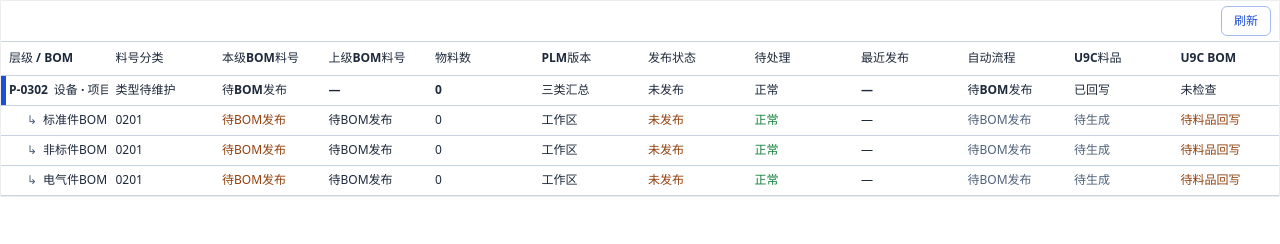
it: BomHierarchyOverview › refreshes cached BOM data and U9 state without writes and blocks repeat clicks
Step 1. Click the button with aria-label "刷新多级BOM" → (1246, 21), box [1221, 6, 1271, 36]
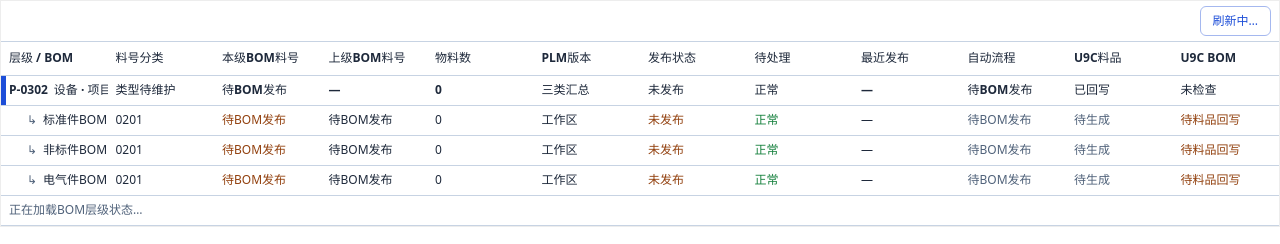
Check: the button with aria-label "刷新多级BOM" is disabled
Check: the button with aria-label "刷新多级BOM" reads "刷新中…"
Step 2. Click the button with aria-label "刷新多级BOM" → (1235, 21), box [1200, 6, 1271, 36]
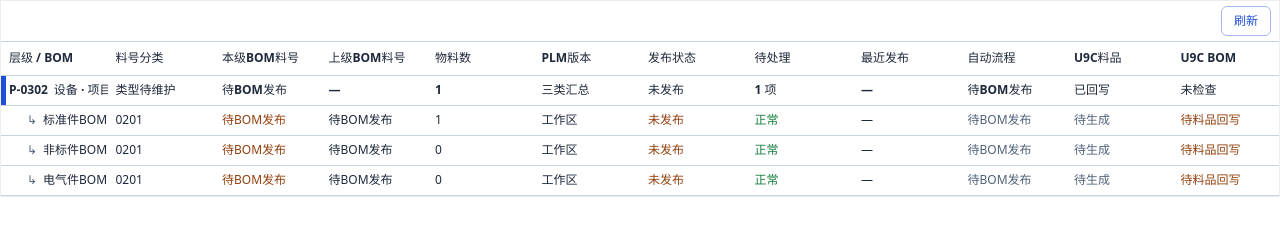
Check: the button with aria-label "刷新多级BOM" is enabled
Check: the 2nd cell "1" is shown, box [427, 105, 534, 135]
Step 3. Click the button with aria-label "刷新多级BOM" → (1246, 21), box [1221, 6, 1271, 36]
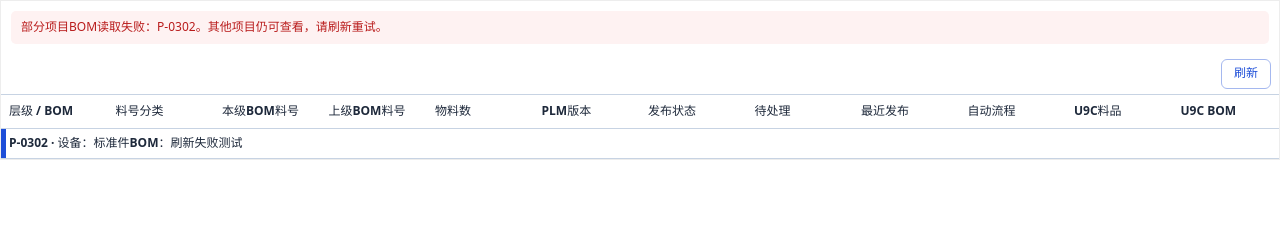
Check: the button with aria-label "刷新多级BOM" is enabled, box [1221, 59, 1271, 89]
Check: the message "部分项目BOM读取失败：P-0302。其他项目仍可查看，请刷新重试。" is shown, box [11, 11, 1269, 44]
Check: the text "P-0302 · 设备：标准件BOM：刷新失败测试" is shown, box [1, 128, 1279, 158]
